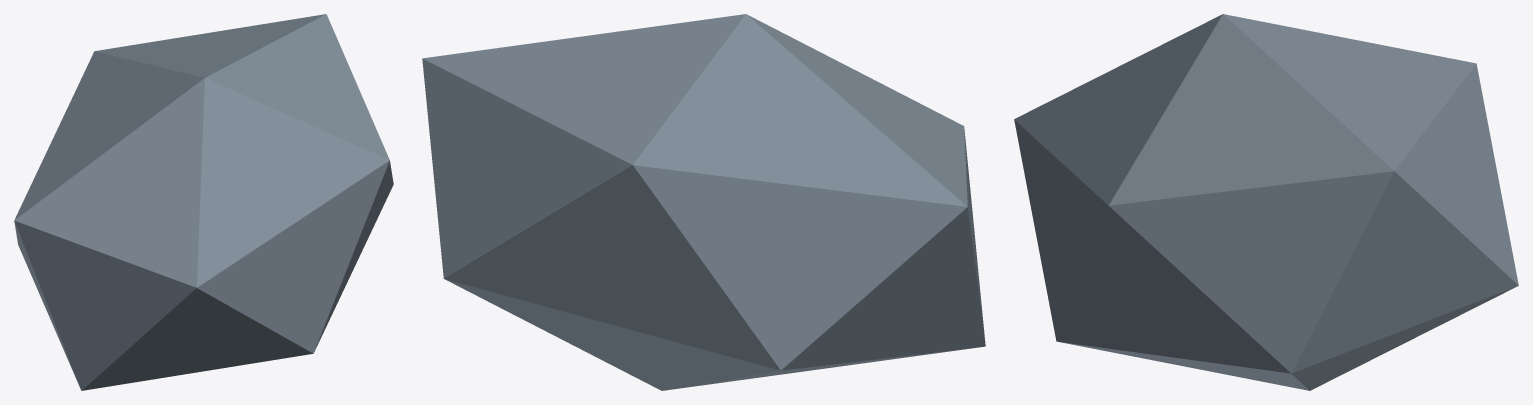
Rendered from INT_AB_RubbleNorth_00_Stone_1.glb.
3 renders of one model, left to right at view 1: azimuth 30°, elevation 25°; view 2: azimuth 150°, elevation 25°; view 3: azimuth 270°, elevation 25°, orthographic. The views are drawn at different scales.
Parts seen in each view (by area): view 1: INT_AB_RubbleNorth_00_Stone_1; view 2: INT_AB_RubbleNorth_00_Stone_1; view 3: INT_AB_RubbleNorth_00_Stone_1.
Part boxes in pixels (box(x1,y1,x2,y2)): INT_AB_RubbleNorth_00_Stone_1: box(14, 14, 393, 390); INT_AB_RubbleNorth_00_Stone_1: box(422, 14, 985, 390); INT_AB_RubbleNorth_00_Stone_1: box(1014, 14, 1518, 390).
Bounding box in the file's own units: 0.3102 × 0.2095 × 0.2685.
